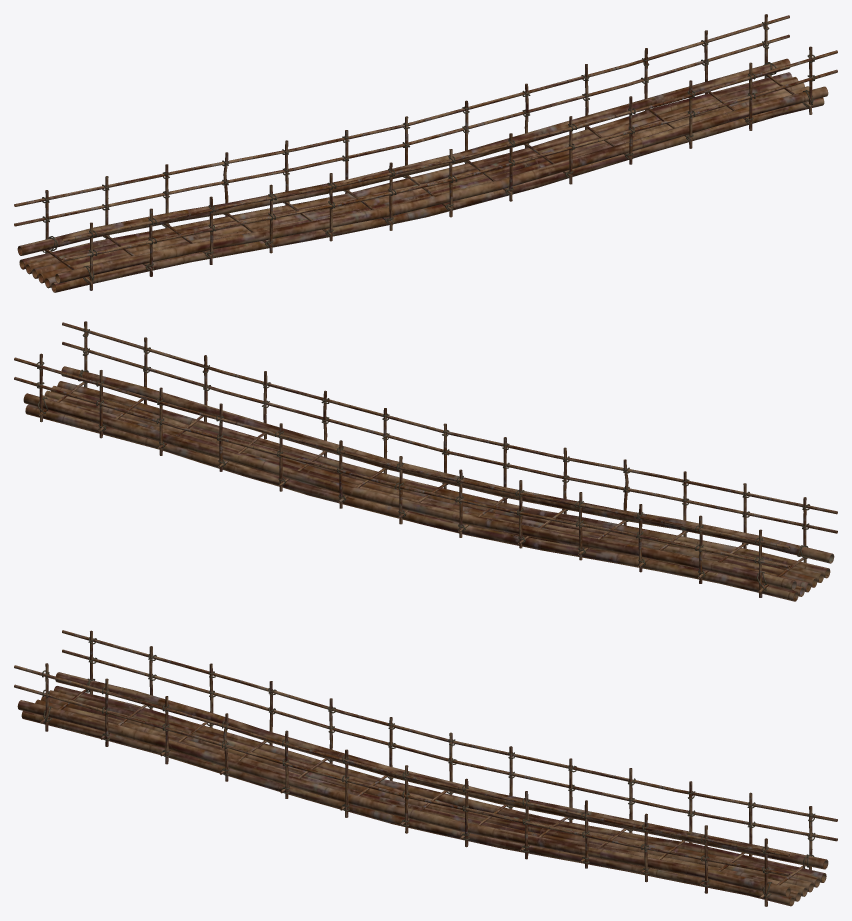
Rendered from bridge.glb.
The picture shows the model from 3 angles, top to bottom: view 1: azimuth 30°, elevation 25°; view 2: azimuth 150°, elevation 25°; view 3: azimuth 330°, elevation 25°; orthographic projection.
Parts seen in each view (by area): view 1: Bamboo_Bridge_Big Bamboo_0, Bamboo_Bridge_Bamboo_0, Bamboo_Bridge_Ropes_0; view 2: Bamboo_Bridge_Big Bamboo_0, Bamboo_Bridge_Bamboo_0, Bamboo_Bridge_Ropes_0; view 3: Bamboo_Bridge_Big Bamboo_0, Bamboo_Bridge_Bamboo_0, Bamboo_Bridge_Ropes_0.
Part boxes in pixels (bbox=[...]): Bamboo_Bridge_Big Bamboo_0: bbox=[17, 58, 828, 292]; Bamboo_Bridge_Bamboo_0: bbox=[14, 14, 837, 290]; Bamboo_Bridge_Ropes_0: bbox=[42, 22, 815, 283]; Bamboo_Bridge_Big Bamboo_0: bbox=[23, 366, 834, 601]; Bamboo_Bridge_Bamboo_0: bbox=[14, 321, 837, 597]; Bamboo_Bridge_Ropes_0: bbox=[36, 329, 809, 590]; Bamboo_Bridge_Big Bamboo_0: bbox=[17, 672, 828, 906]; Bamboo_Bridge_Bamboo_0: bbox=[14, 630, 837, 906]; Bamboo_Bridge_Ropes_0: bbox=[42, 637, 815, 898].
Bounding box in the file's own units: 20.17 × 2.09 × 2.33.
3 materials, 3 textured.
